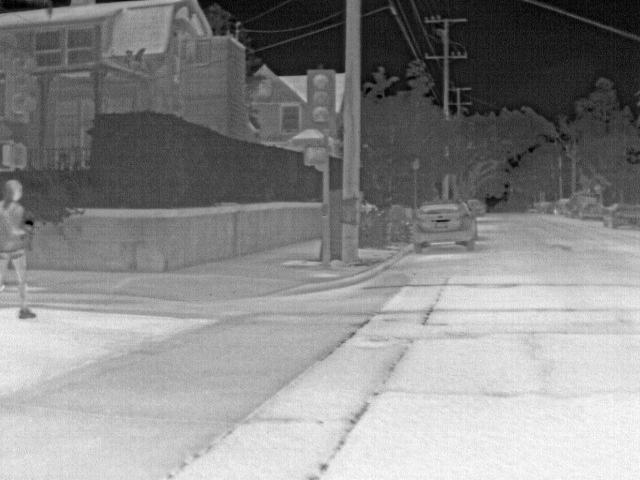car: (411, 197, 478, 254), (566, 191, 595, 217), (577, 200, 605, 219), (547, 196, 568, 214), (468, 198, 485, 216), (537, 199, 551, 212)
person: (0, 177, 37, 322)
